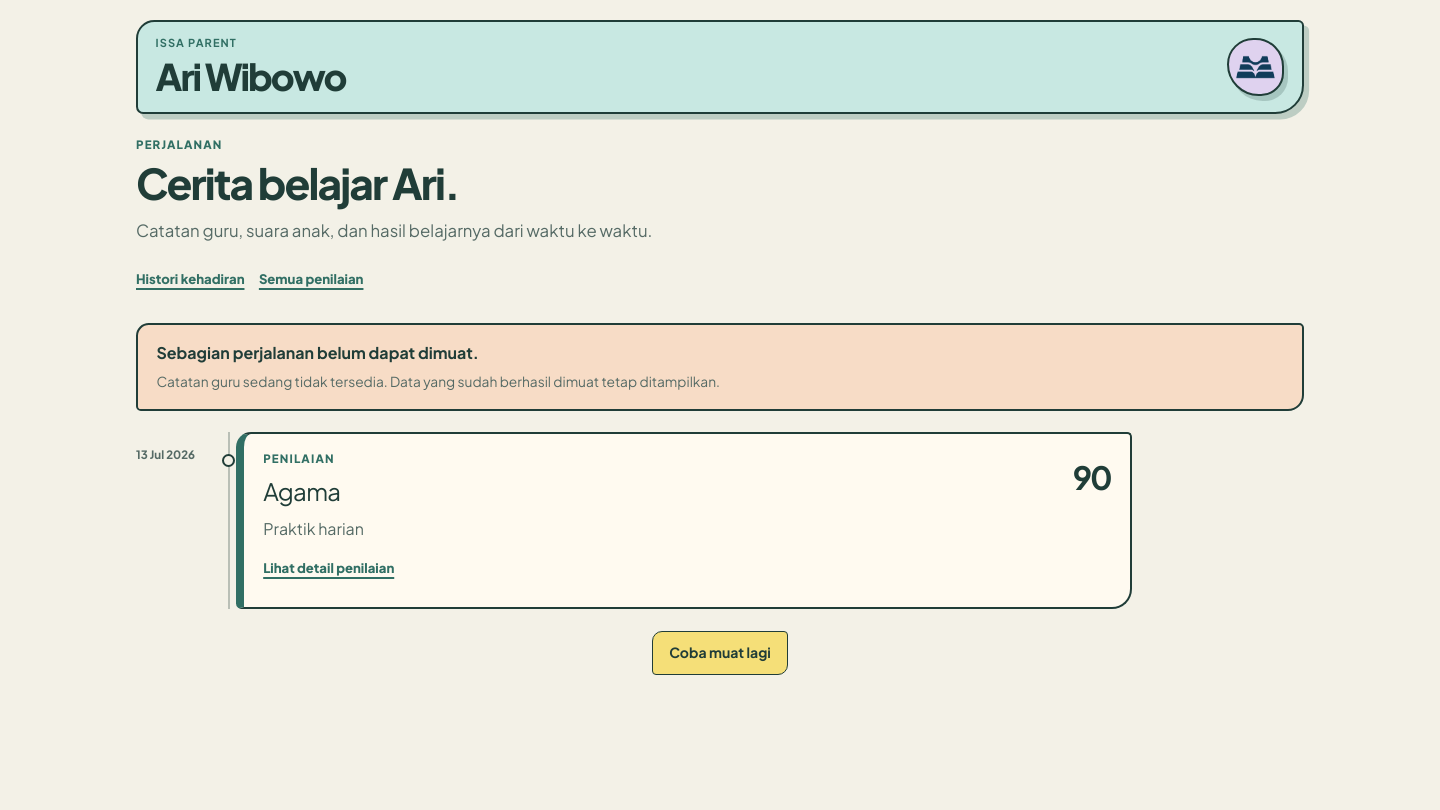
Scenario: Active Parent reconciliation › shows partial failure rather than empty and retries the history
Expected: the text "Sebagian perjalanan belum dapat dimuat." is shown, [156, 343, 479, 363]
Expected: the text "Praktik harian" is shown, [263, 518, 364, 538]
Click the button "Coba muat lagi": {"x": 720, "y": 652} [652, 630, 788, 674]
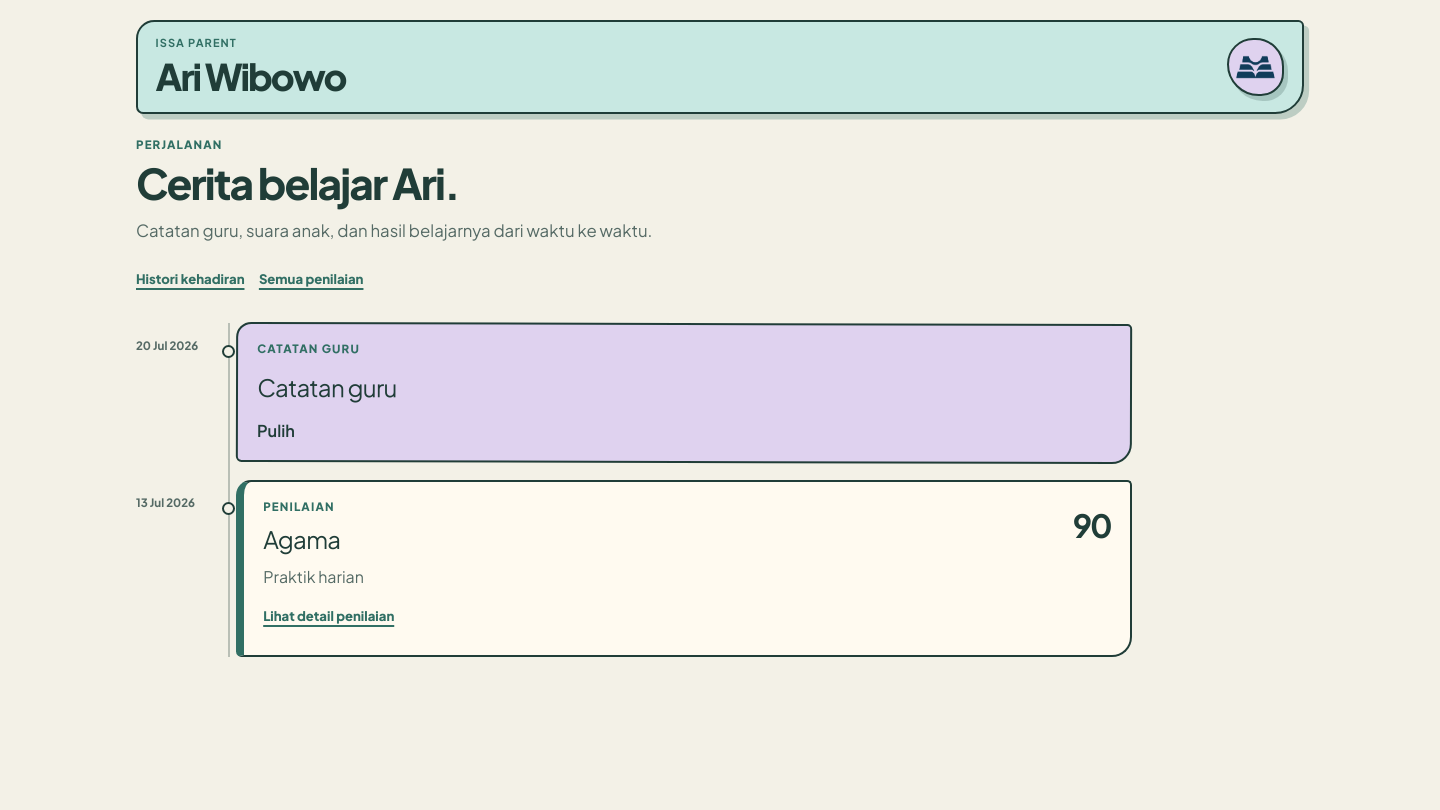
Result: the text "Pulih" is shown at [257, 420, 295, 441]
